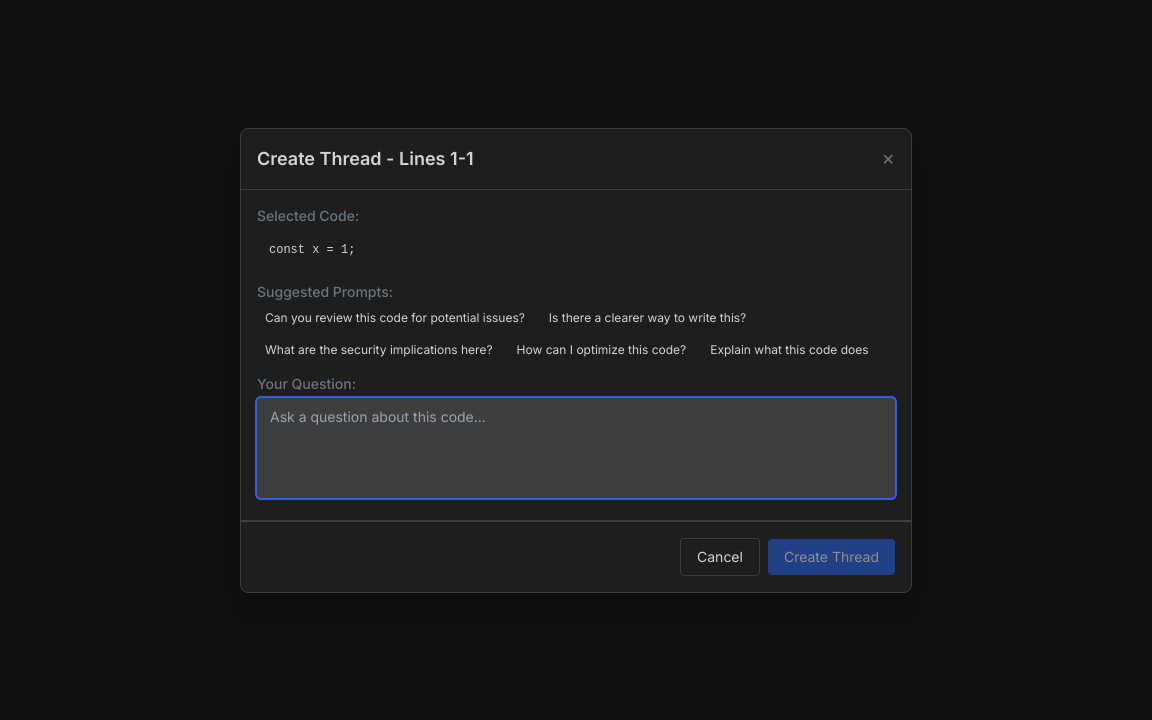
ThreadCreationDialog › should enable submit button when input has text
The width and height of the screenshot is (1152, 720).
Type "Test question" into the text box with placeholder "Ask a question about this code..." at (576, 448), box [257,398,895,498]
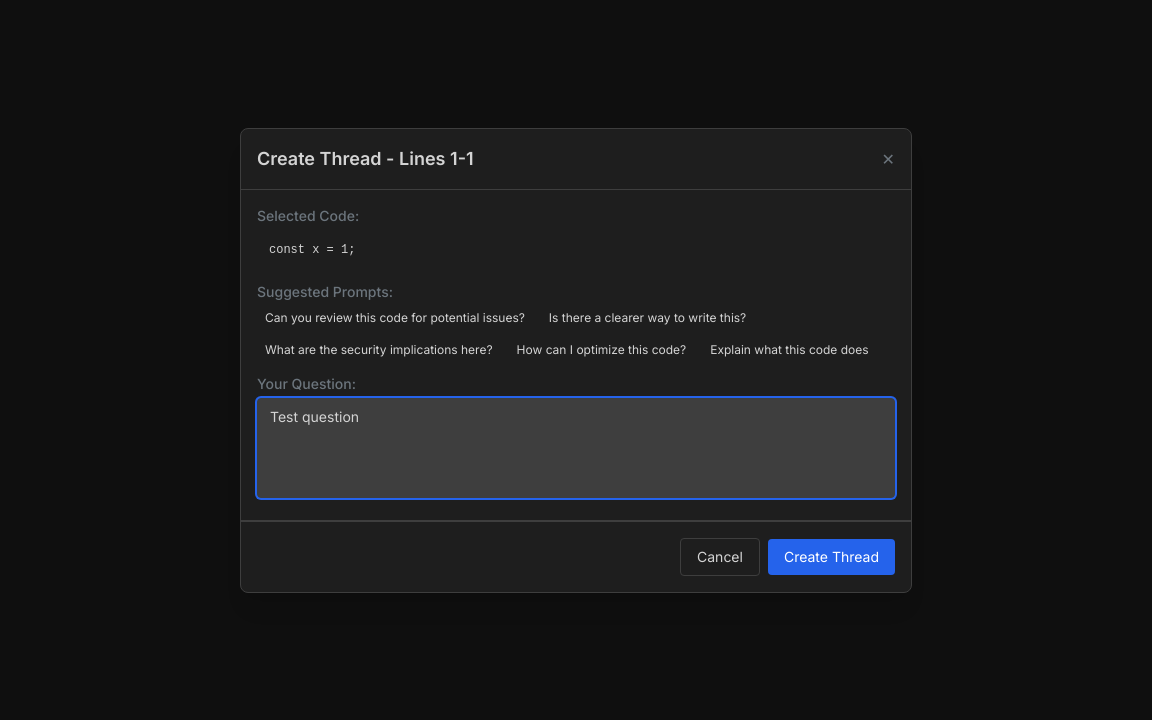
Expected: the button "Create Thread" is enabled, [768,538,895,574]
